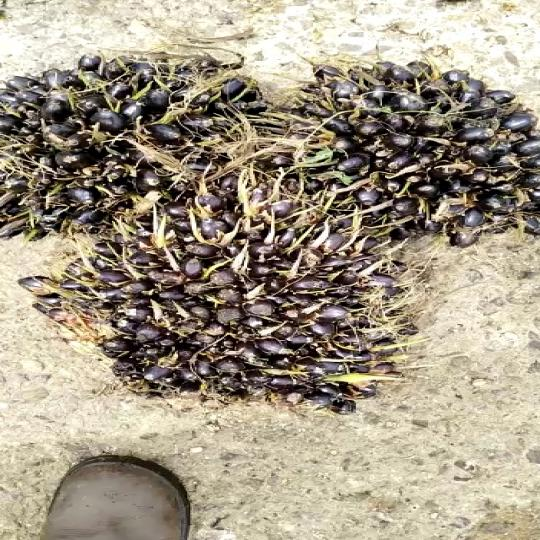mentah: (66, 198, 427, 437), (0, 39, 306, 237), (262, 55, 540, 244)
